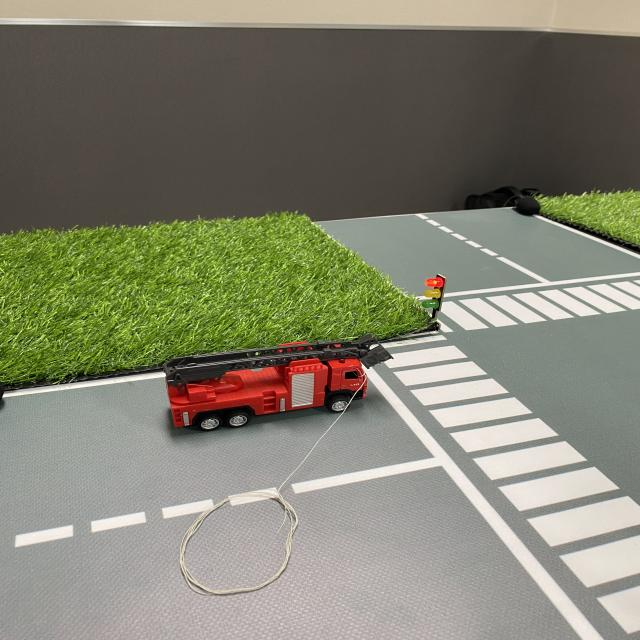Fire Truck: (159, 329, 397, 437)
